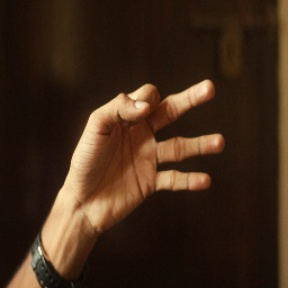K: (72, 80, 230, 215)
